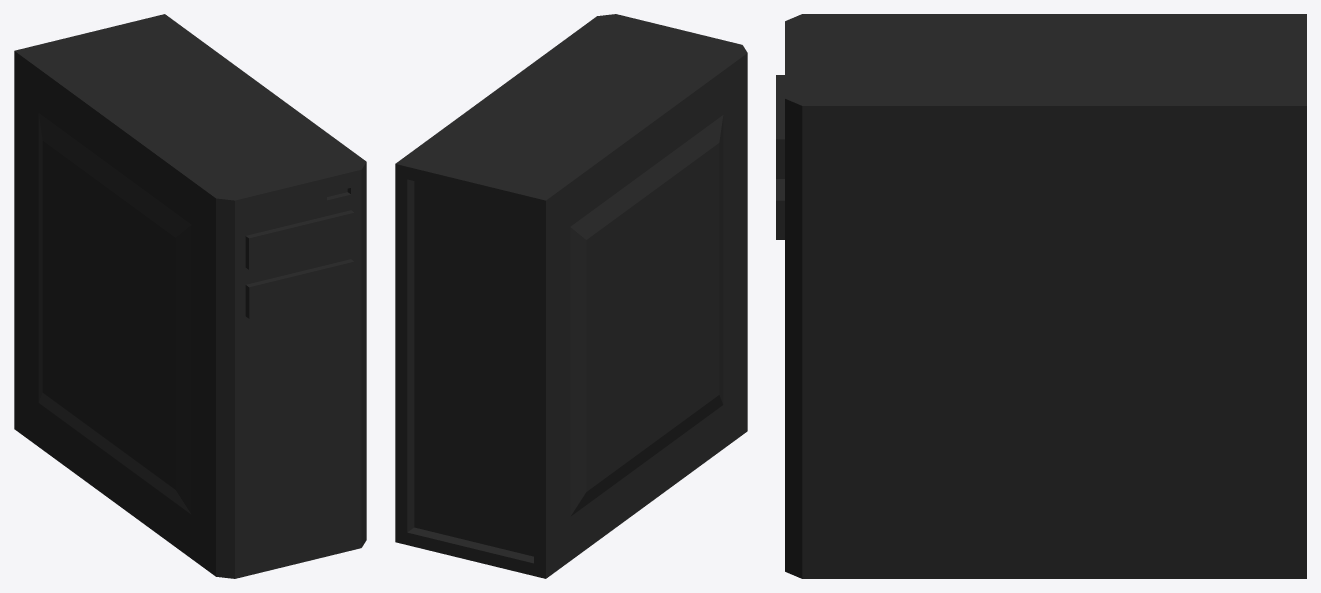
File: pc-desktop.glb
The picture shows the model from 3 angles, left to right: view 1: azimuth 30°, elevation 25°; view 2: azimuth 150°, elevation 25°; view 3: azimuth 270°, elevation 25°; orthographic projection. The views are drawn at different scales.
Parts seen in each view (by area): view 1: pc-desktop; view 2: pc-desktop; view 3: pc-desktop.
Part boxes in pixels (left/top/right/bottom): pc-desktop: left=14, top=14, right=366, bottom=578; pc-desktop: left=395, top=14, right=747, bottom=578; pc-desktop: left=776, top=14, right=1306, bottom=578.
Size of the model in its own units: 0.26 by 0.6 by 0.61.
1 material, 1 textured.
